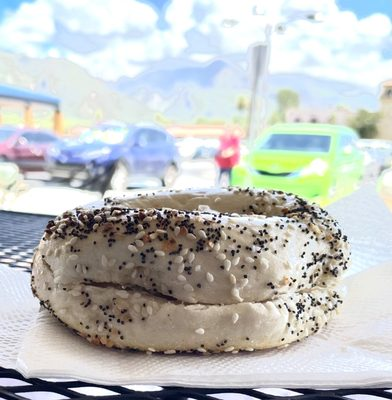salad: (31, 190, 357, 355)
